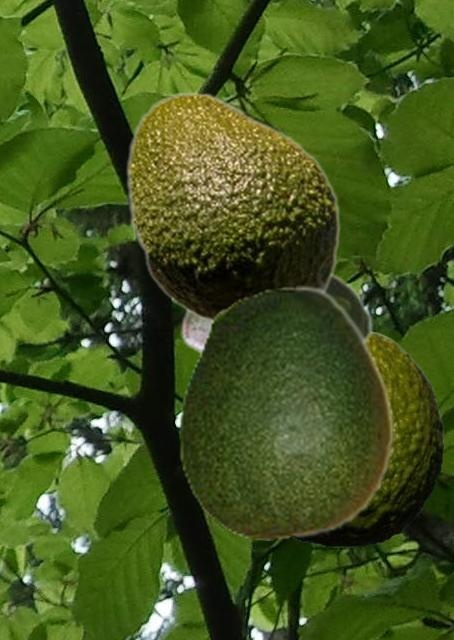avocado: (178, 285, 393, 539), (125, 91, 340, 324), (289, 328, 442, 546), (180, 271, 373, 356)
